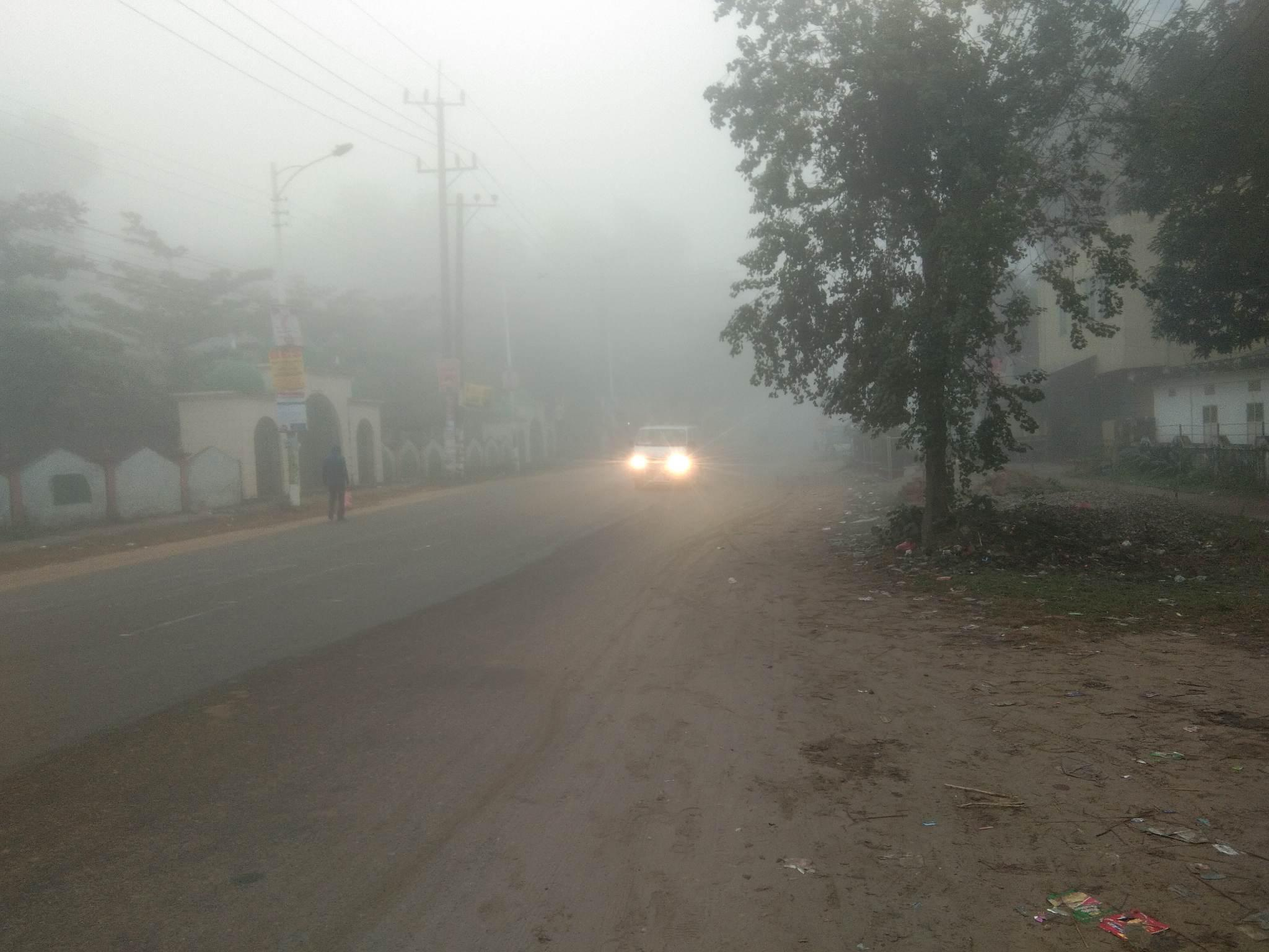Car: (617, 418, 716, 505)
